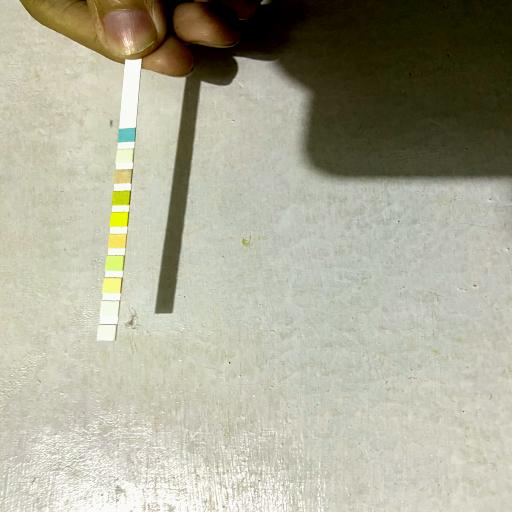Bilirubin: (118, 149, 134, 163)
Blood: (111, 212, 128, 226)
Glucose: (119, 129, 135, 142)
Ketone: (114, 170, 132, 184)
Leukocytes: (99, 325, 115, 340)
Nitrite: (102, 301, 118, 316)
Protein: (106, 256, 124, 271)
SpGravity: (113, 192, 130, 206)
Urobilinogen: (104, 278, 120, 293)
pH: (110, 234, 126, 248)
strip: (97, 62, 141, 341)
